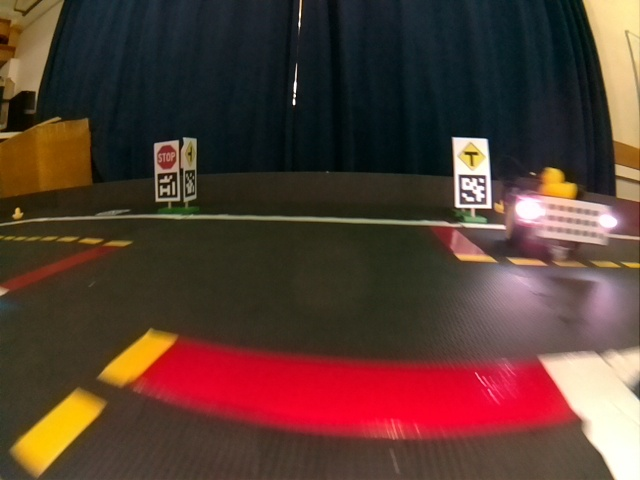Duckie: (537, 167, 578, 197), (12, 208, 23, 219)
Duckiebot: (506, 183, 614, 253)
Intersection sign: (458, 143, 486, 171), (186, 142, 196, 162)
QR code: (459, 174, 487, 205), (157, 177, 178, 198), (185, 170, 196, 197)
Stop sign: (155, 145, 177, 169)
